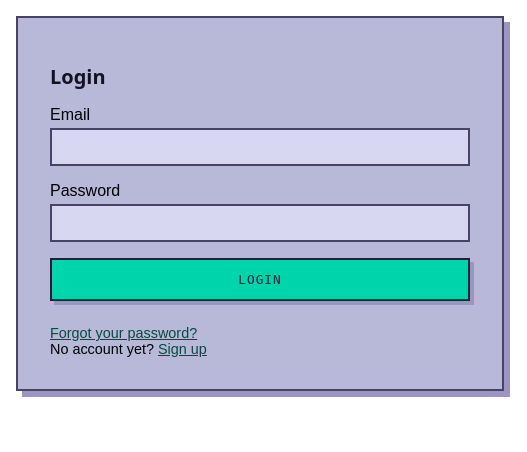
Test: LoginPage › does not attempt a login with empty fields
The image size is (527, 452).
Click the button "Login" at (260, 280), box [50,258,470,301]
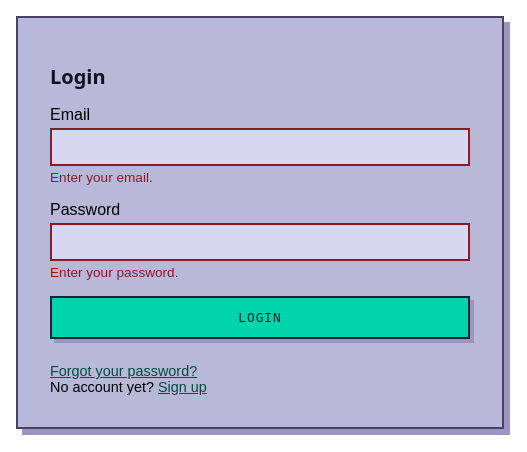
Expected: the text "Enter your email." is shown, [50,170,153,185]
